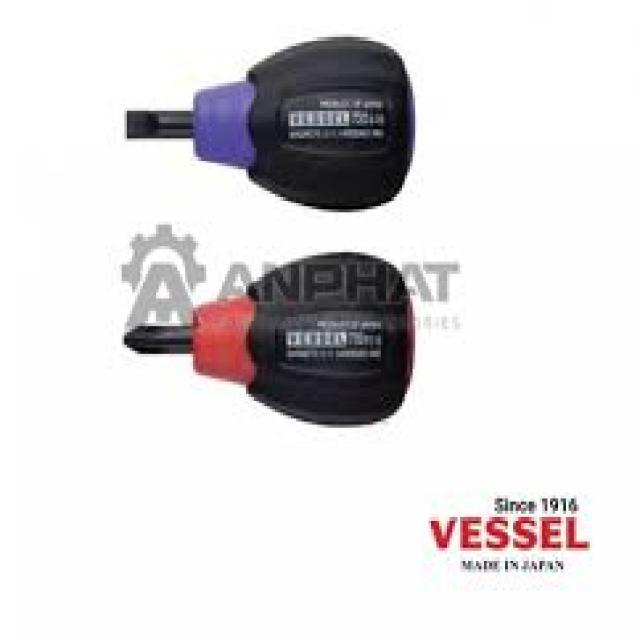screwdriver: (122, 245, 420, 430), (123, 34, 422, 218)
